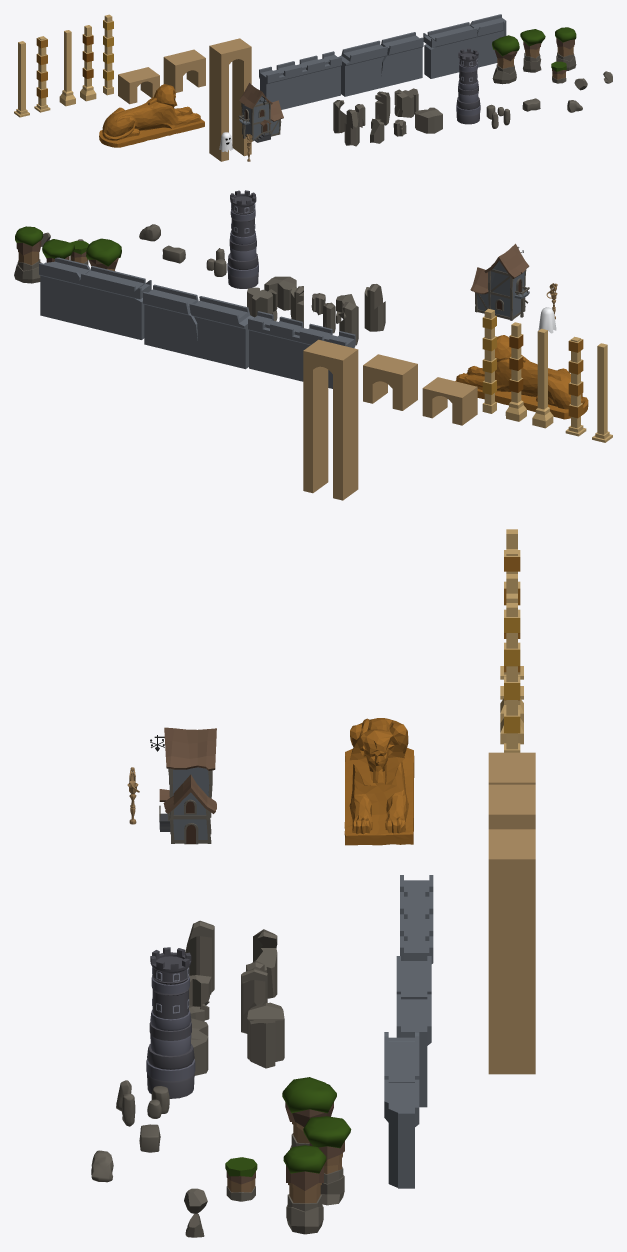
File: MemyGowna.fbx
The picture shows the model from 3 angles, top to bottom: view 1: azimuth 30°, elevation 25°; view 2: azimuth 150°, elevation 25°; view 3: azimuth 270°, elevation 25°; orthographic projection. The views are drawn at different scales.
Visible parts, largest first — view 1: SM_Dungeon_Arch_Bridge_JFG_3, Cube.033, SphinxCrystalPalacePark02, Cube.059, Cube.030, Fantasy_House_6, Cube.003, SM_Dungeon_Arch_Bridge_JFG_2, SM_Dungeon_Arch_Bridge_JFG_1, Cube.056, SM_Dungeon_Distance_Prop_JFG_2, SM_Dungeon_Distance_Prop_JFG_4 (+13 smaller); view 2: SM_Dungeon_Arch_Bridge_JFG_3, Cube.030, Cube.033, Cube.059, SphinxCrystalPalacePark02, Fantasy_House_6, Cube.003, SM_Dungeon_Arch_Bridge_JFG_2, SM_Dungeon_Arch_Bridge_JFG_1, Cube.032, SM_Dungeon_Distance_Prop_JFG_5, SM_Dungeon_Distance_Prop_JFG_4 (+10 smaller); view 3: SM_Dungeon_Arch_Bridge_JFG_3, SphinxCrystalPalacePark02, Cube.003, Fantasy_House_6, Cube.030, Cube.033, Cube.032, Cube.059, Cube.050, SM_Dungeon_Distance_Prop_JFG_5, Cube.056, Cube.023 (+6 smaller).
Part boxes in pixels (x1,y1,x2,y2): SM_Dungeon_Arch_Bridge_JFG_3: (209,38,251,161); Cube.033: (338,32,423,96); SphinxCrystalPalacePark02: (99,84,204,147); Cube.059: (259,51,341,109); Cube.030: (423,14,506,78); Fantasy_House_6: (238,83,283,142); Cube.003: (456,48,480,124); SM_Dungeon_Arch_Bridge_JFG_2: (163,49,205,92); SM_Dungeon_Arch_Bridge_JFG_1: (118,67,159,104); Cube.056: (492,35,519,84); SM_Dungeon_Distance_Prop_JFG_2: (34,36,50,112); SM_Dungeon_Distance_Prop_JFG_4: (80,25,96,101); SM_Dungeon_Arch_Bridge_JFG_3: (303,339,358,500); Cube.030: (39,257,151,339); Cube.033: (143,284,254,369); Cube.059: (248,311,355,388); SphinxCrystalPalacePark02: (455,335,588,419); Fantasy_House_6: (470,243,529,320); Cube.003: (227,190,258,288); SM_Dungeon_Arch_Bridge_JFG_2: (363,354,417,410); SM_Dungeon_Arch_Bridge_JFG_1: (422,377,477,425); Cube.032: (14,226,43,283); SM_Dungeon_Distance_Prop_JFG_5: (482,308,496,413); SM_Dungeon_Distance_Prop_JFG_4: (505,322,526,421); SM_Dungeon_Arch_Bridge_JFG_3: (488,829,535,1074); SphinxCrystalPalacePark02: (344,718,414,845); Cube.003: (146,947,195,1098); Fantasy_House_6: (150,727,216,844); Cube.030: (384,1032,419,1188); Cube.033: (396,956,431,1107); Cube.032: (283,1145,326,1234); Cube.059: (400,875,433,963); Cube.050: (303,1116,351,1205); SM_Dungeon_Distance_Prop_JFG_5: (504,603,520,752); Cube.056: (282,1077,336,1148); Cube.023: (247,1002,284,1068).
Bounding box in the file's own units: 101 × 31.45 × 37.82.
